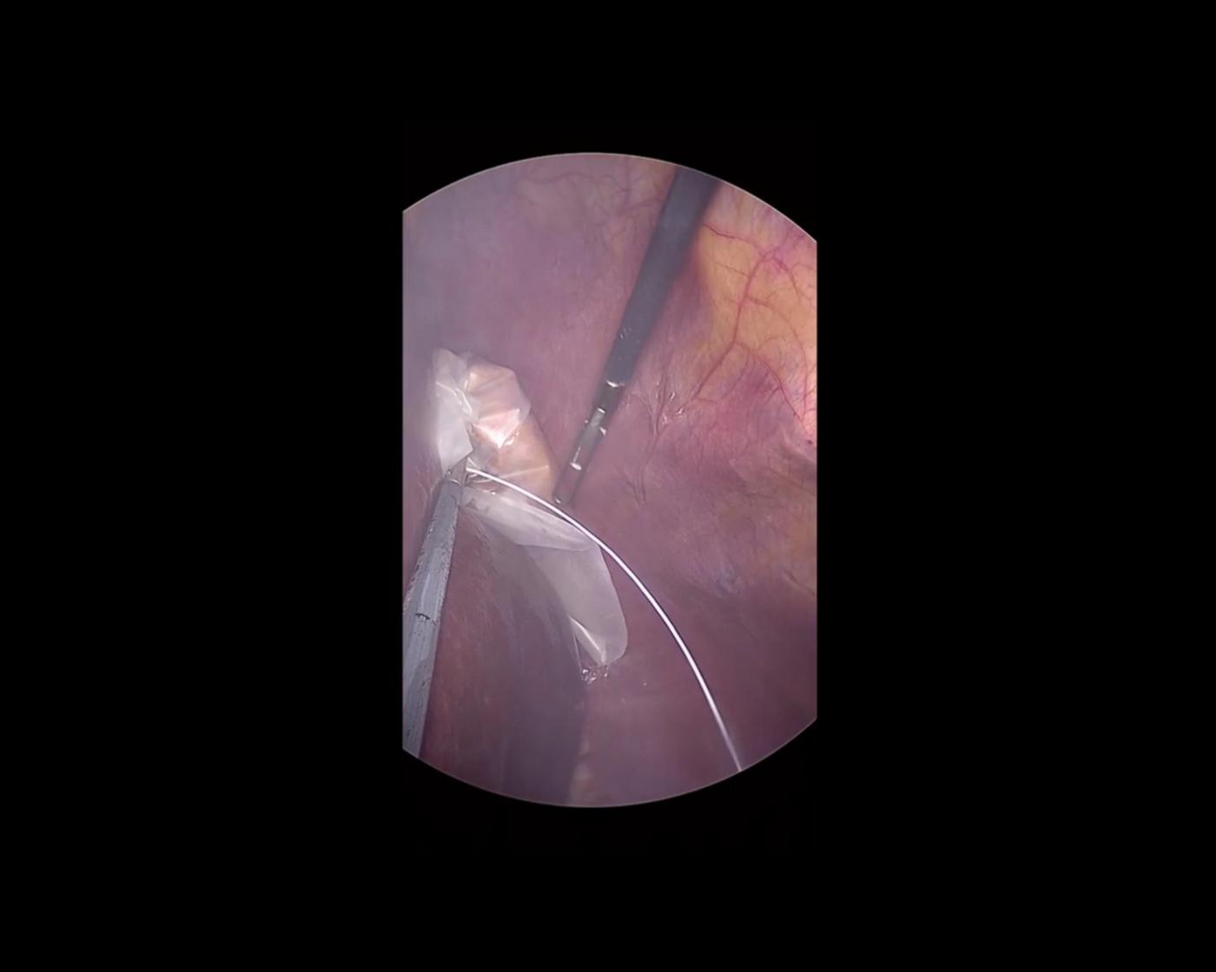Bag: (384, 321, 662, 691)
Forceps: (529, 163, 715, 513), (378, 453, 465, 757)
Liver: (397, 304, 585, 806)
